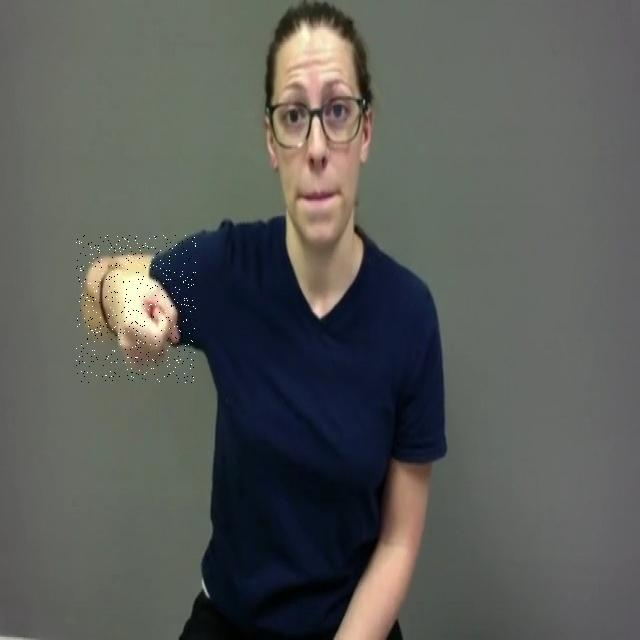bag: (76, 235, 196, 383)
